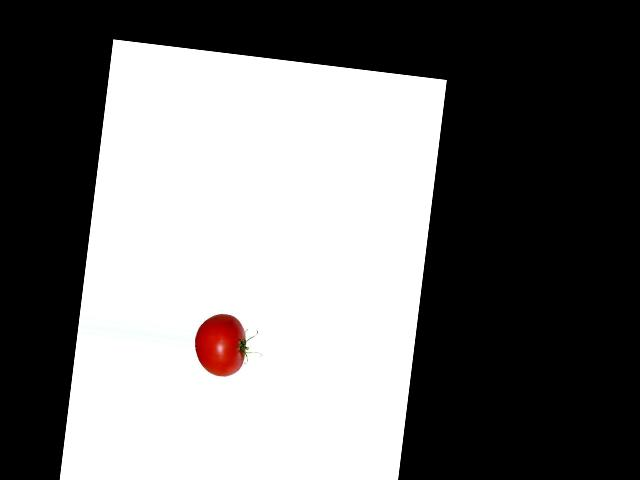tomato: (191, 311, 249, 378)
